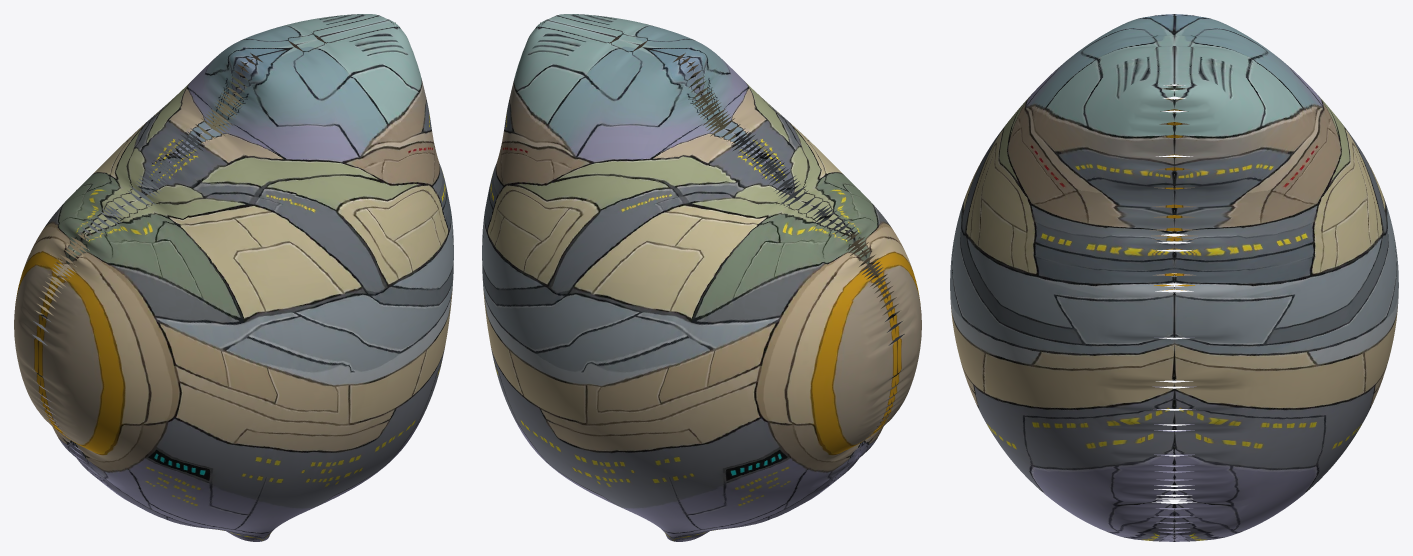
File: station_hull.glb
The picture shows the model from 3 angles, left to right: view 1: azimuth 30°, elevation 25°; view 2: azimuth 150°, elevation 25°; view 3: azimuth 270°, elevation 25°; orthographic projection. The views are drawn at different scales.
Visible parts, largest first — view 1: station_hull; view 2: station_hull; view 3: station_hull.
Part boxes in pixels (box(x1,y1,x2,y2)): station_hull: box(14, 14, 453, 541); station_hull: box(482, 14, 921, 541); station_hull: box(950, 14, 1398, 541).
Size of the model in its own units: 0.9878 by 1.09 by 0.8713.
Materials: 1 (1 with a texture image).
